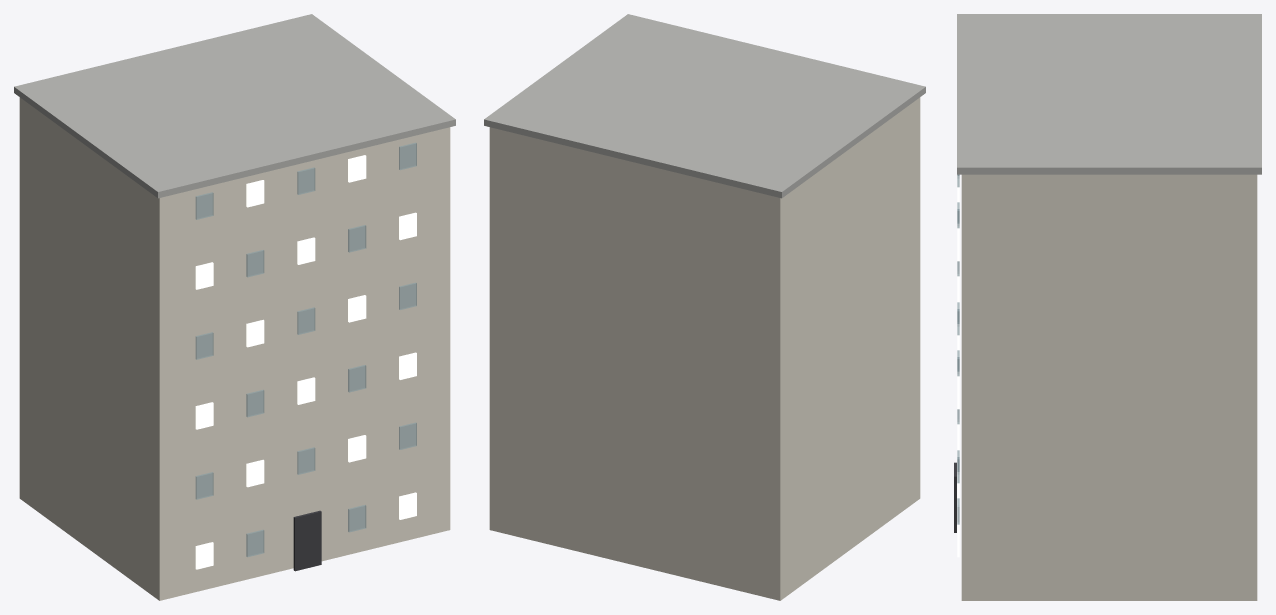
File: building_mid_01.glb
3 views of the same model, side by side, from view 1: azimuth 30°, elevation 25°; view 2: azimuth 150°, elevation 25°; view 3: azimuth 270°, elevation 25° (orthographic). The views are drawn at different scales.
Visible parts, largest first — view 1: Mass.002, Roof.002, Door.002; view 2: Mass.002, Roof.002; view 3: Mass.002, Roof.002.
Part boxes in pixels (x1,y1,x2,y2): Mass.002: (19,97,450,600); Roof.002: (14,14,455,198); Door.002: (293,510,321,571); Mass.002: (489,97,920,600); Roof.002: (484,14,925,198); Mass.002: (961,174,1257,600); Roof.002: (957,14,1261,174).
Bounding box in the file's own units: 12.3 × 16.23 × 10.4.
